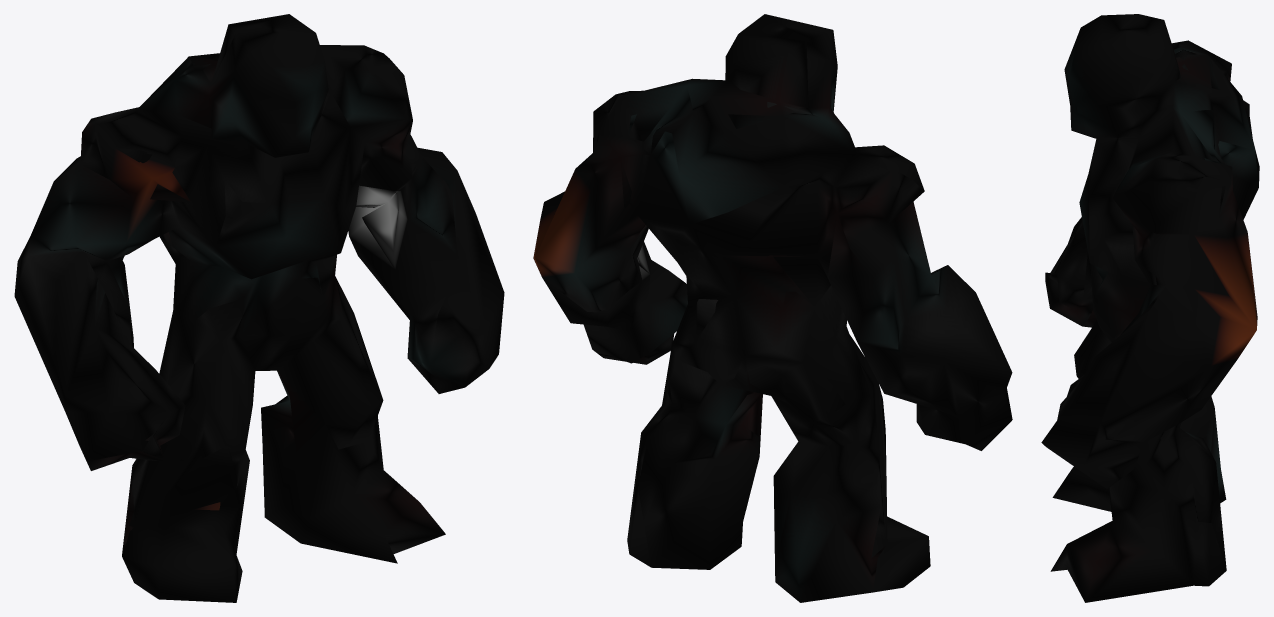
File: gen3d-lava-golem-lod1.glb
The picture shows the model from 3 angles, left to right: view 1: azimuth 30°, elevation 25°; view 2: azimuth 150°, elevation 25°; view 3: azimuth 270°, elevation 25°; orthographic projection. The views are drawn at different scales.
Parts seen in each view (by area): view 1: part_0; view 2: part_0; view 3: part_0.
Part boxes in pixels (x1,y1,x2,y2): part_0: (14,14,504,602); part_0: (533,14,1012,602); part_0: (1041,14,1259,602).
Size of the model in its own units: 0.8577 by 0.9896 by 0.387.
